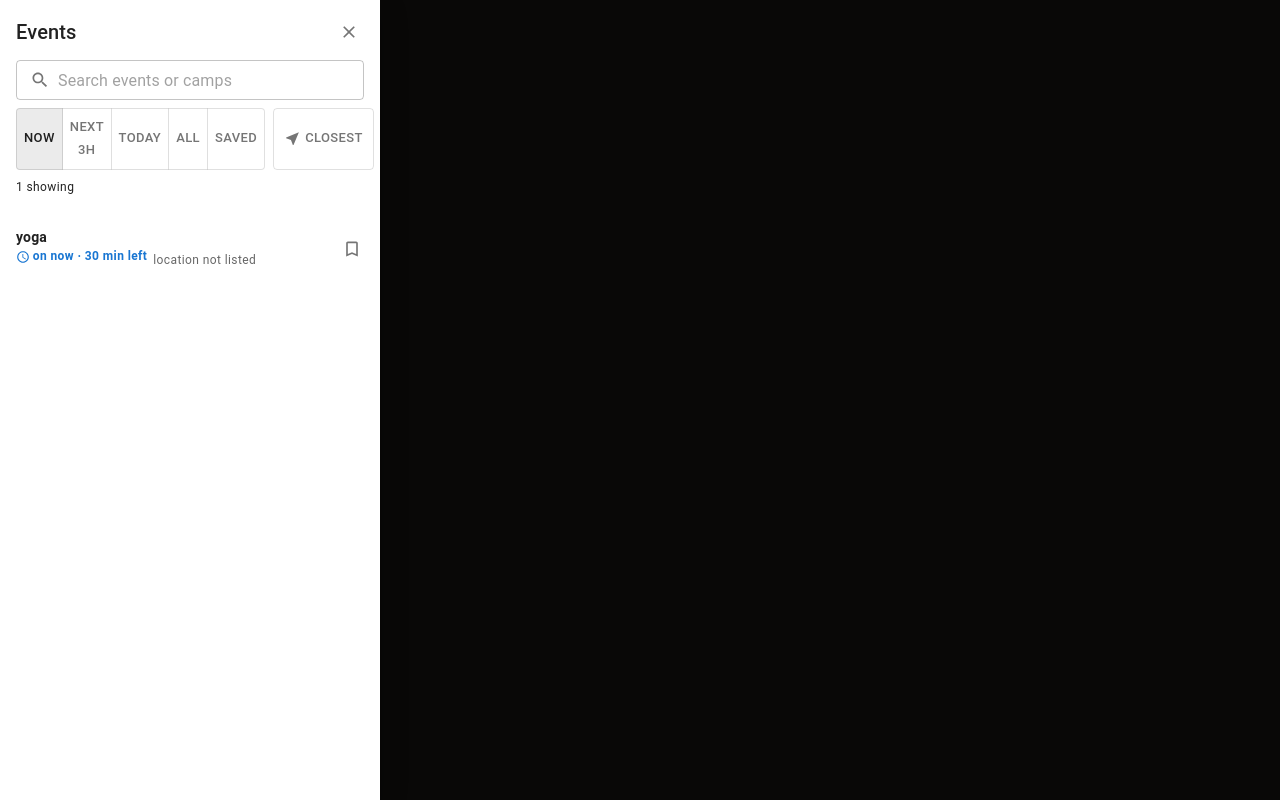
Test case: EventsPanel · location failure for "Closest" › does not leave "Closest" selected while silently falling back to time order on denial
Click the button "Closest". click: (324, 139)
box: [273, 108, 374, 170]
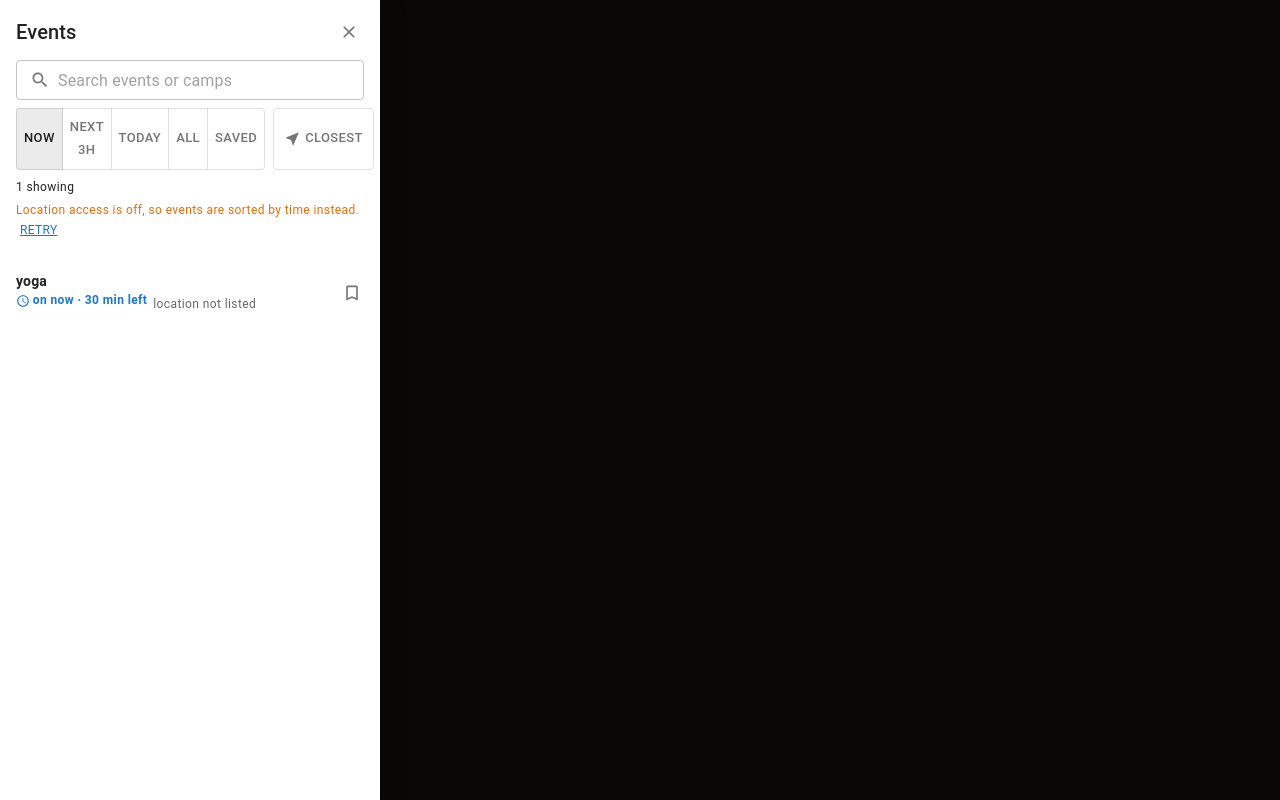
Result: the text "Location access is off" is shown at [16, 203, 359, 217]
